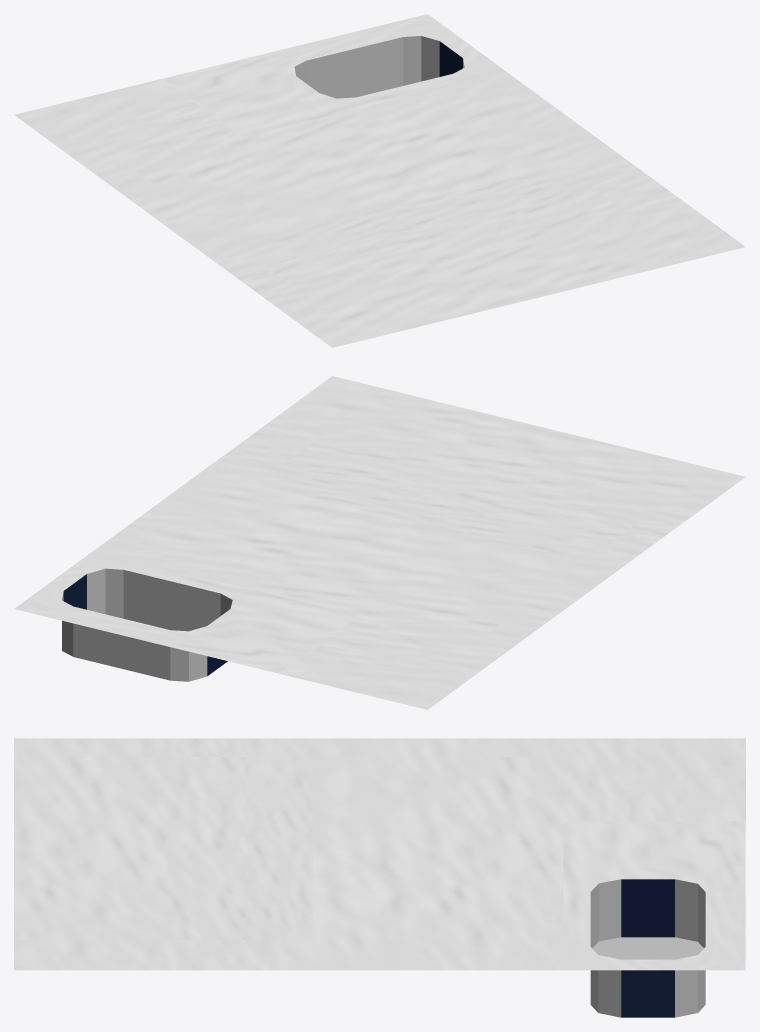
File: hole06.FBX
3 views of the same model, one above another, from view 1: azimuth 30°, elevation 25°; view 2: azimuth 150°, elevation 25°; view 3: azimuth 270°, elevation 25° (orthographic). The views are drawn at different scales.
Visible parts, largest first — view 1: Object054; view 2: Object054; view 3: Object054.
Boxes of the visible parts, <box> form: Object054: <box>14,14,745,347</box>; Object054: <box>14,376,745,709</box>; Object054: <box>14,738,745,1017</box>.
Bounding box in the file's own units: 600 × 70 × 800.
